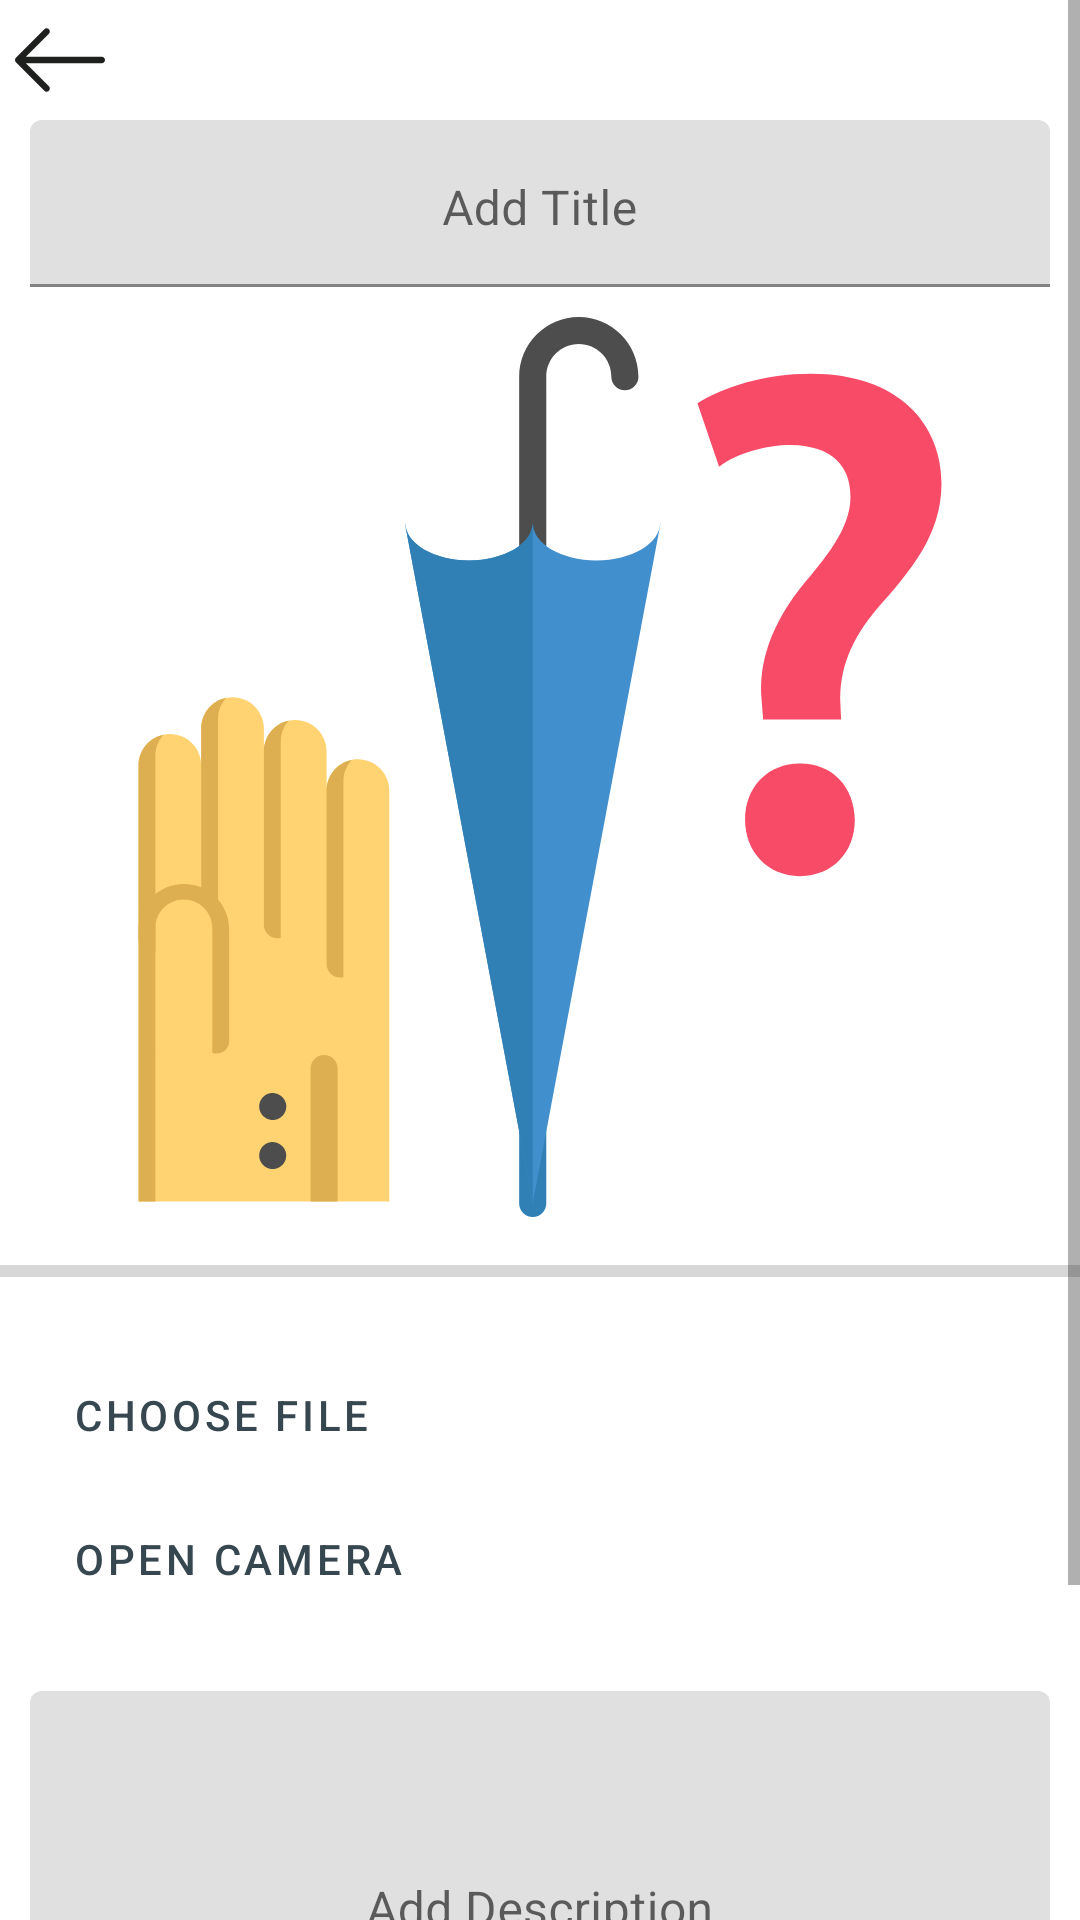

Icon click points for this 1080*1920 phone screenshot, format (x=x, y=y):
back: (x=60, y=60)
